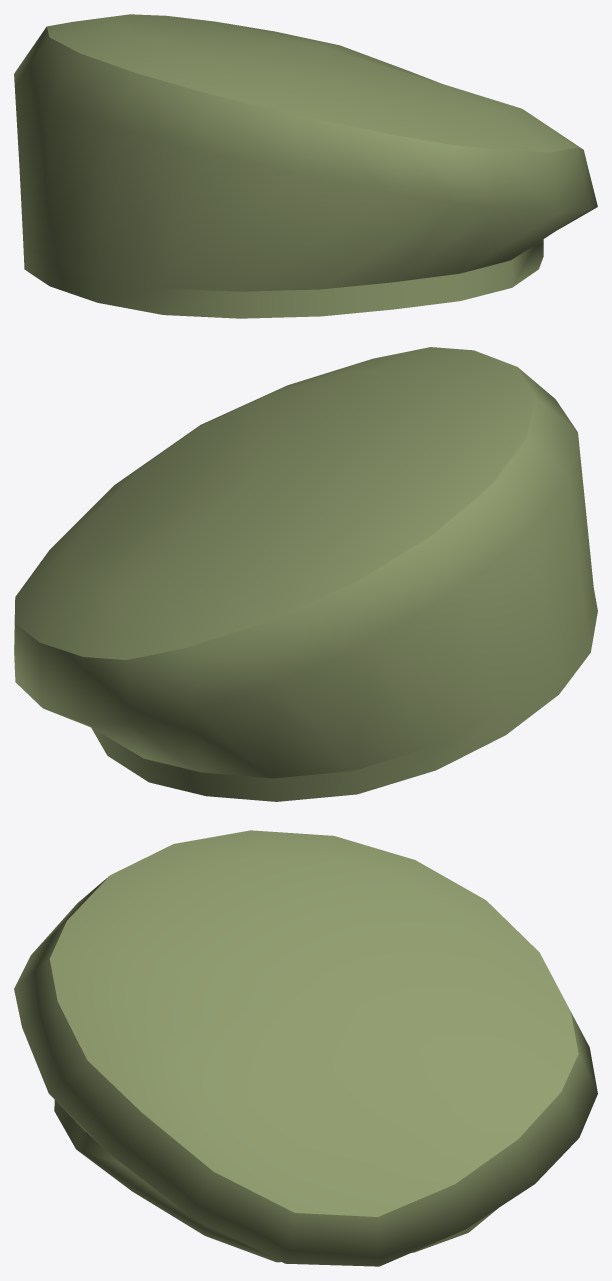
The model's file is Tanky_Soldier_Helmet_Type_1.fbx.
The picture shows the model from 3 angles, top to bottom: view 1: azimuth 30°, elevation 25°; view 2: azimuth 150°, elevation 25°; view 3: azimuth 270°, elevation 25°; orthographic projection. The views are drawn at different scales.
Parts seen in each view (by area): view 1: Tanky_Soldier_Helmet_Type_1; view 2: Tanky_Soldier_Helmet_Type_1; view 3: Tanky_Soldier_Helmet_Type_1.
Boxes of the visible parts, x1=… form: Tanky_Soldier_Helmet_Type_1: x1=14, y1=14, x2=597, y2=318; Tanky_Soldier_Helmet_Type_1: x1=14, y1=347, x2=597, y2=801; Tanky_Soldier_Helmet_Type_1: x1=14, y1=830, x2=597, y2=1266.
Bounding box in the file's own units: 31.32 × 17.57 × 34.08.
